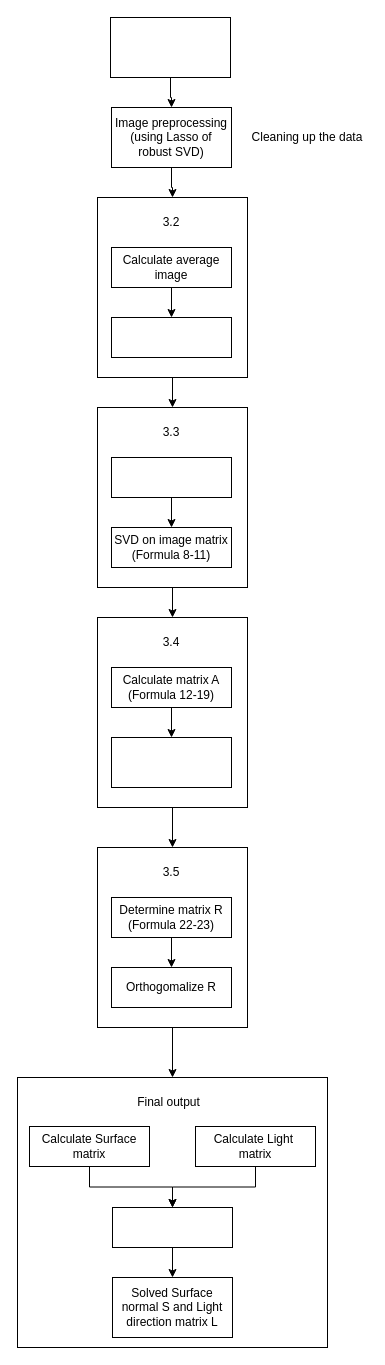
Some shapes in this 385 by 1365 pixel diagram are drawn without their labels. The box of each missing label's shape, as (x1, y1, x2, y2) in pixels:
Bilateral filter to estimate albedo: (110, 316, 232, 358)
Create shading matrix (Formula 5-7): (110, 456, 232, 498)
Image sequence: (110, 16, 230, 78)
Recalculate S for all pixels using L: (112, 1206, 232, 1248)
Update pseudo surface matrix (Formula 20-21): (110, 736, 232, 788)
